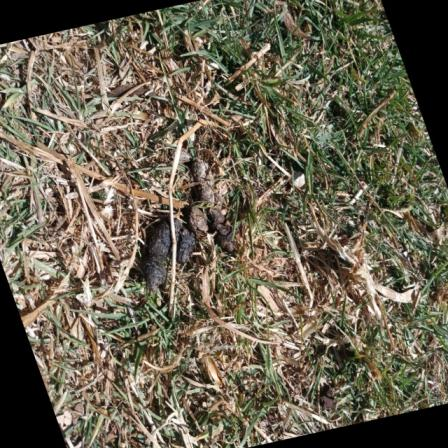dog-poop: (136, 154, 244, 274)
